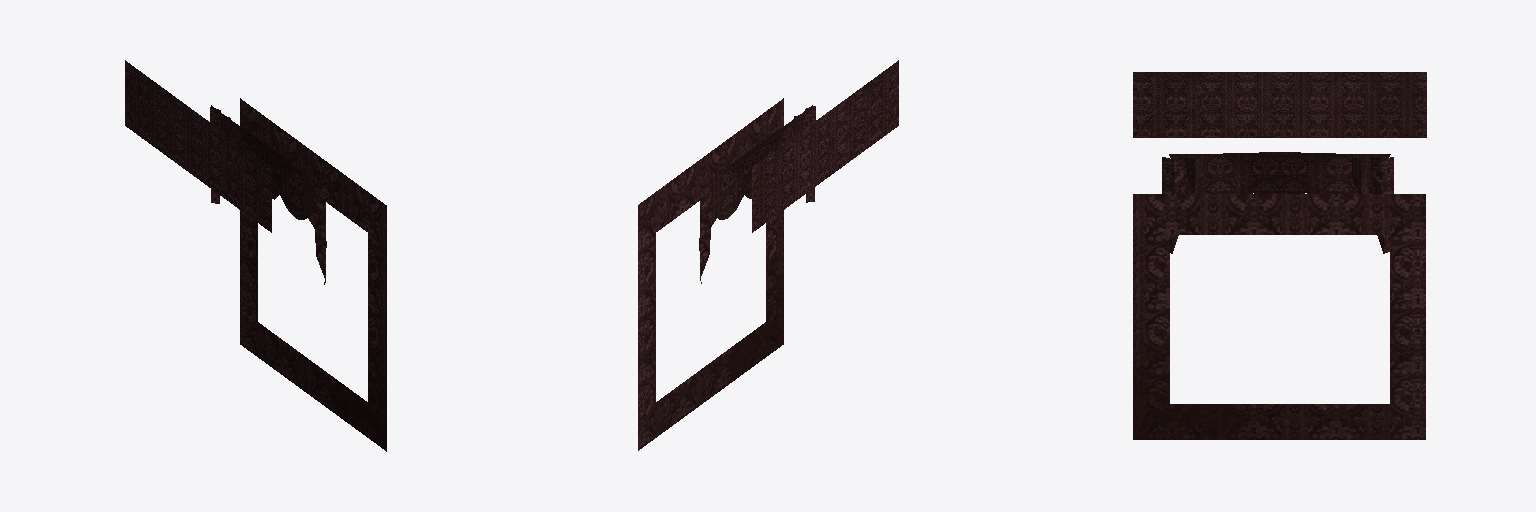
The picture shows the model from 3 angles: view 1: azimuth 30°, elevation 25°; view 2: azimuth 150°, elevation 25°; view 3: azimuth 270°, elevation 25°; orthographic projection.
Parts seen in each view (by area): view 1: Kitchen_GEO_GRP1_Kitchen_90; view 2: Kitchen_GEO_GRP1_Kitchen_90; view 3: Kitchen_GEO_GRP1_Kitchen_90.
Boxes of the visible parts, box(x1,y1,x2,y2) form: Kitchen_GEO_GRP1_Kitchen_90: box(125, 60, 386, 451); Kitchen_GEO_GRP1_Kitchen_90: box(638, 60, 898, 450); Kitchen_GEO_GRP1_Kitchen_90: box(1133, 72, 1426, 439).
Size of the model in its own units: 1.3 by 3.38 by 2.89.
Materials: 1 (1 with a texture image).